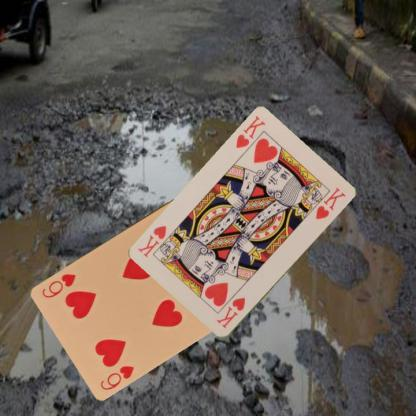6h: (98, 362, 136, 391)
Kh: (233, 113, 267, 150), (214, 295, 247, 330)
